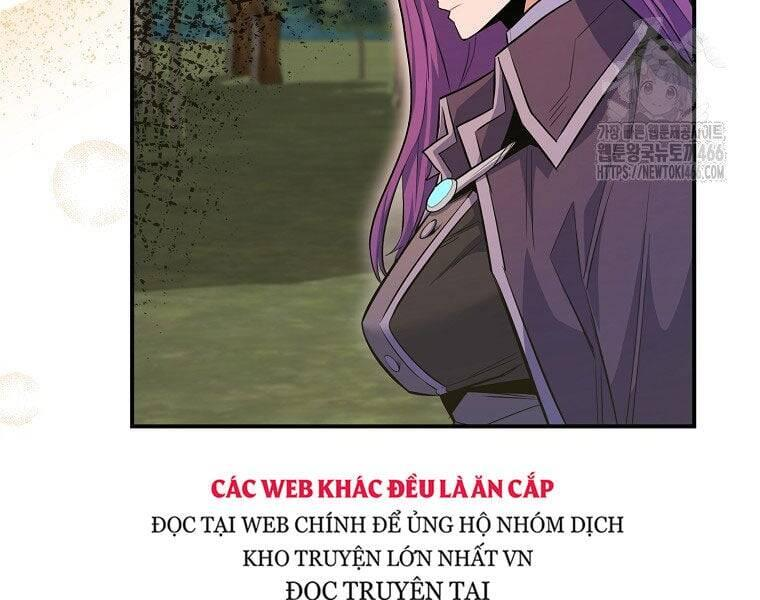quangcao: (150, 470, 625, 600)
